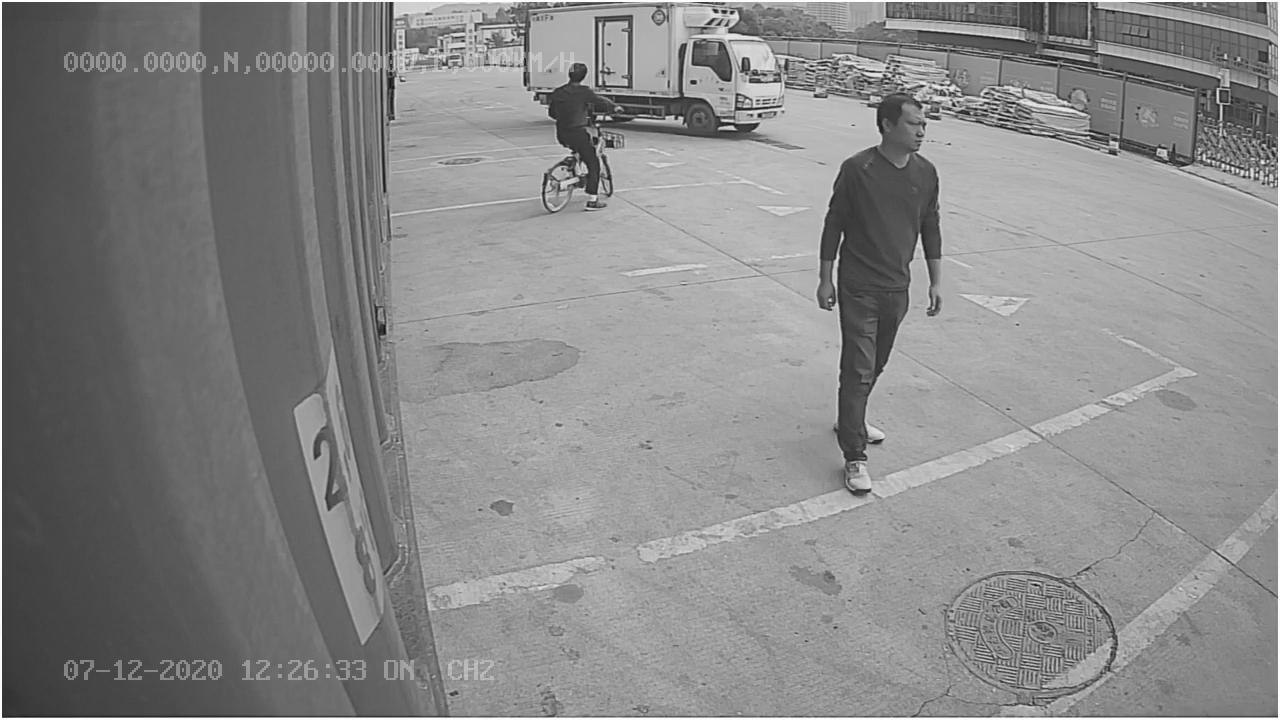person: (816, 86, 951, 501)
